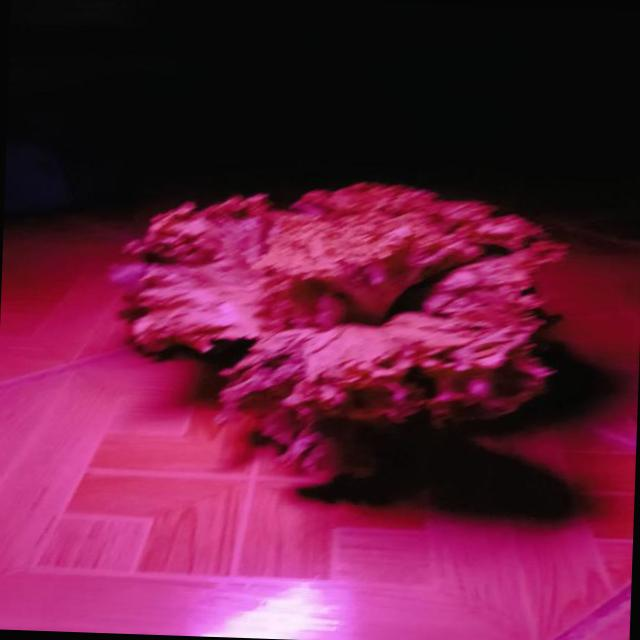Lettuce-Ready-to-Harvest: (127, 184, 564, 469)
